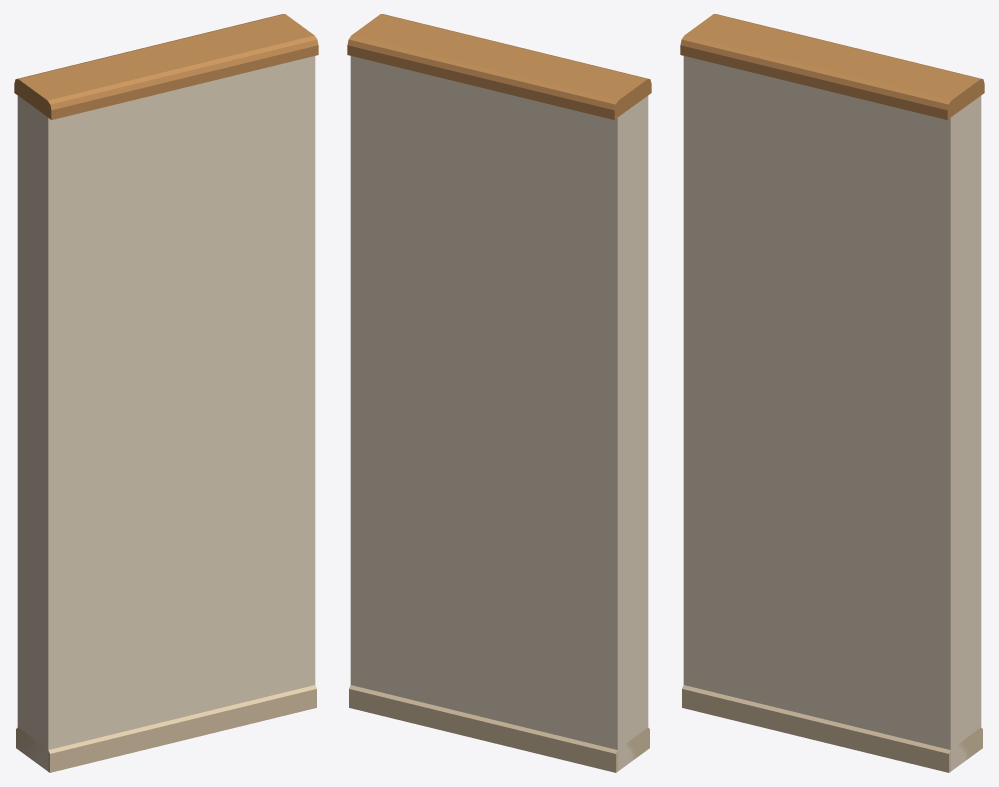
Rendered from wg_wand_voll.glb.
3 renders of one model, left to right at view 1: azimuth 30°, elevation 25°; view 2: azimuth 150°, elevation 25°; view 3: azimuth 330°, elevation 25°, orthographic.
Parts seen in each view (by area): view 1: wg_wand_voll; view 2: wg_wand_voll; view 3: wg_wand_voll.
Boxes of the visible parts, x1,y1,x2,y2 form: wg_wand_voll: (14, 14, 318, 772); wg_wand_voll: (347, 14, 651, 772); wg_wand_voll: (680, 14, 984, 772).
Bounding box in the file's own units: 1 × 2.4 × 0.24.
